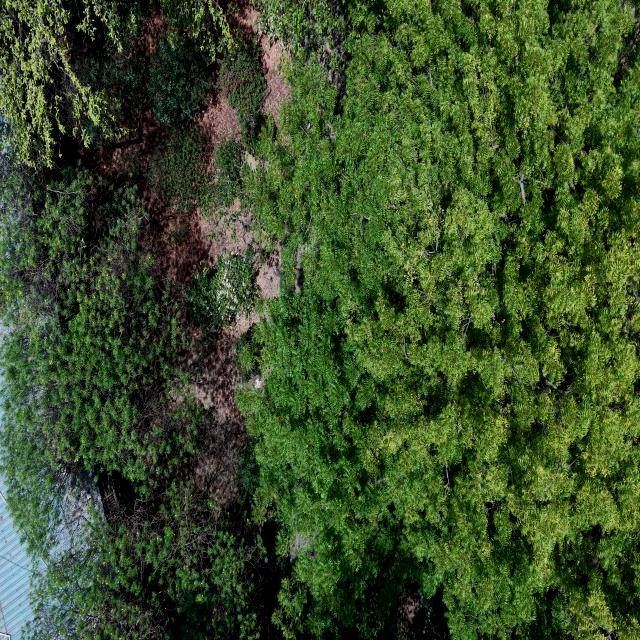DRY_AREA: (85, 99, 257, 289), (80, 97, 252, 279), (183, 311, 258, 504), (182, 330, 246, 506), (142, 191, 253, 281), (80, 90, 163, 179), (142, 198, 213, 284), (193, 198, 254, 264), (194, 198, 253, 263), (198, 90, 242, 148), (260, 35, 290, 119), (613, 2, 639, 84), (397, 578, 427, 639), (398, 578, 420, 630), (256, 250, 279, 297), (230, 0, 258, 31)
VEGETATION_TREE: (0, 0, 639, 639), (240, 0, 639, 639), (0, 2, 264, 639), (0, 166, 261, 639), (0, 167, 192, 553), (26, 479, 263, 639), (0, 0, 118, 165), (72, 0, 148, 147), (145, 122, 241, 218), (146, 122, 210, 213), (184, 253, 256, 332), (148, 35, 211, 123), (159, 0, 232, 59), (218, 37, 265, 123), (200, 139, 240, 215), (233, 330, 260, 383), (236, 440, 258, 498)
